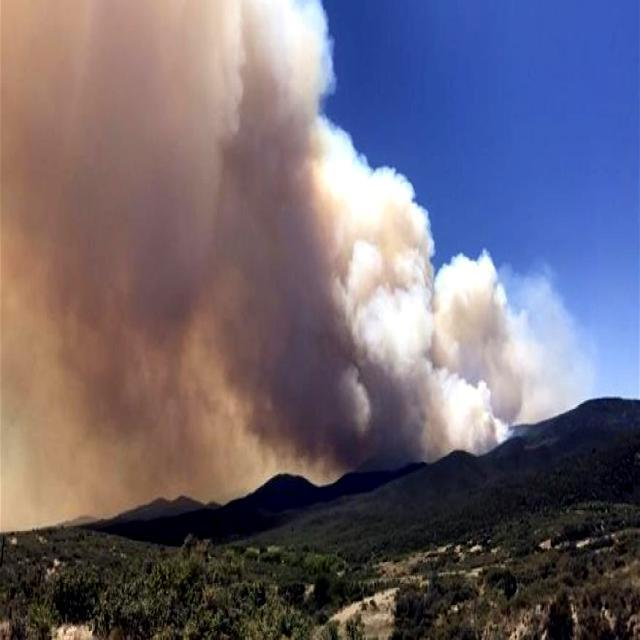Smoke: (0, 0, 409, 453)
